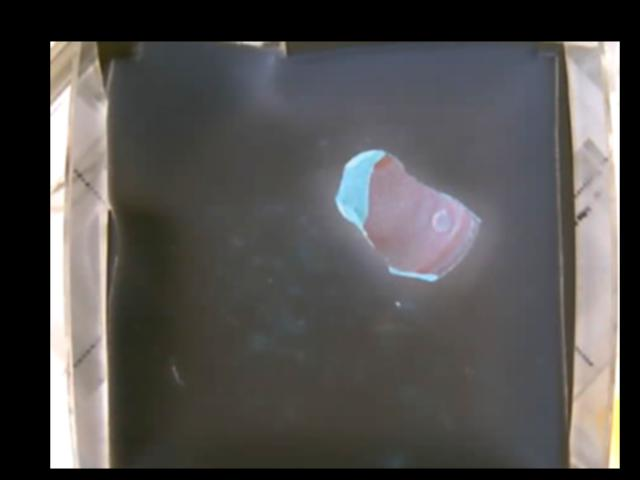China: (335, 149, 480, 280)
